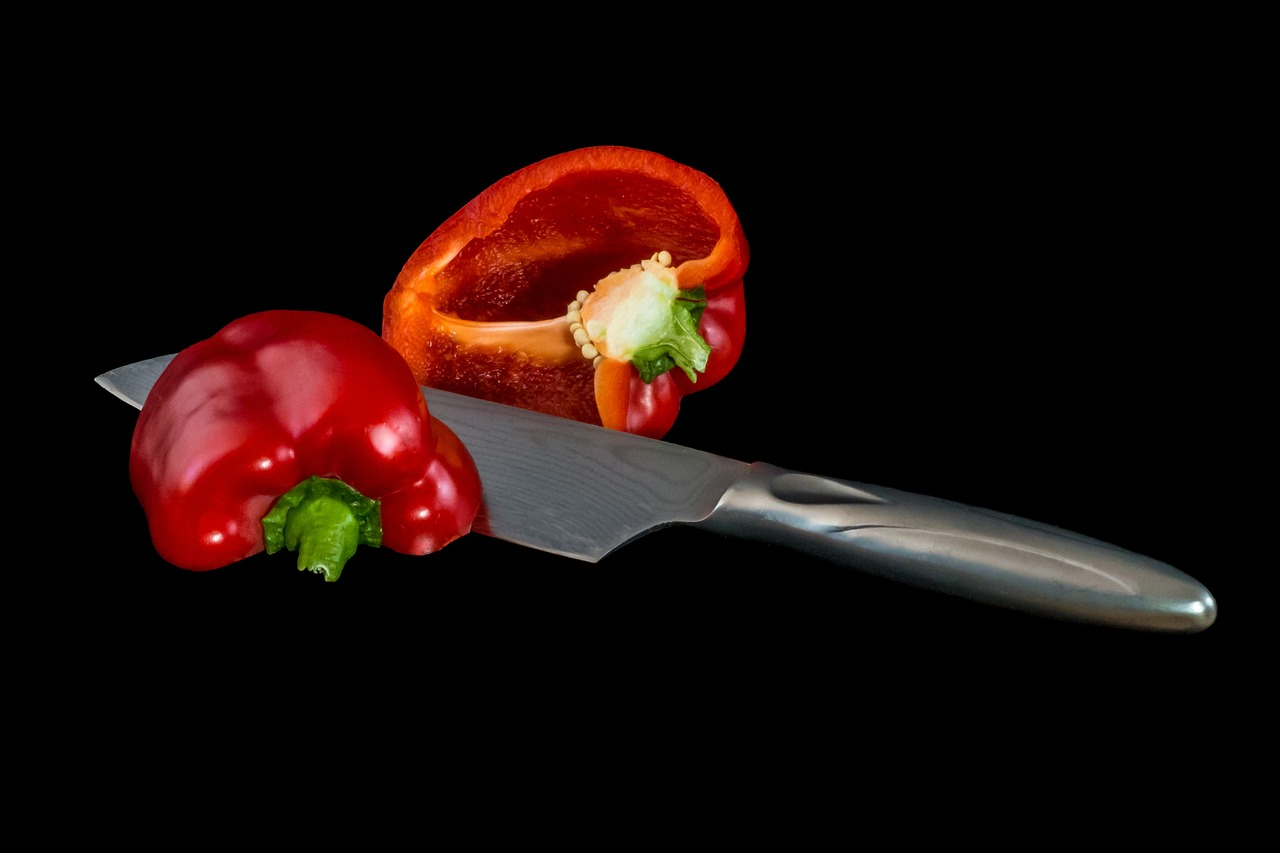knife: (86, 325, 1220, 637)
